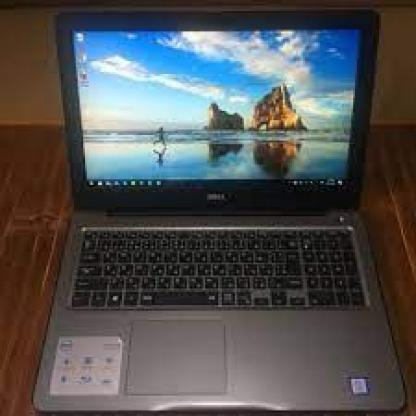Normal: (58, 11, 388, 211)
